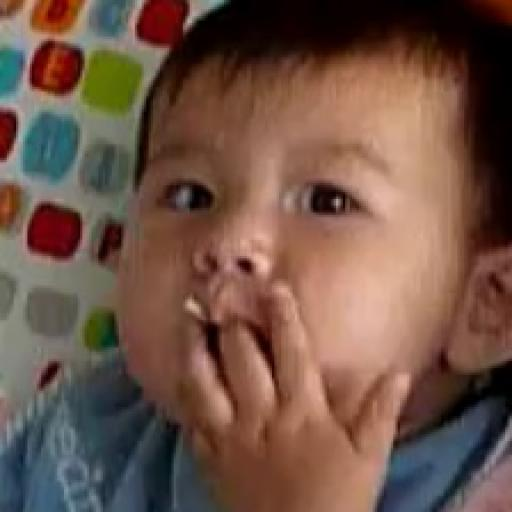Autism: (101, 19, 507, 481)
